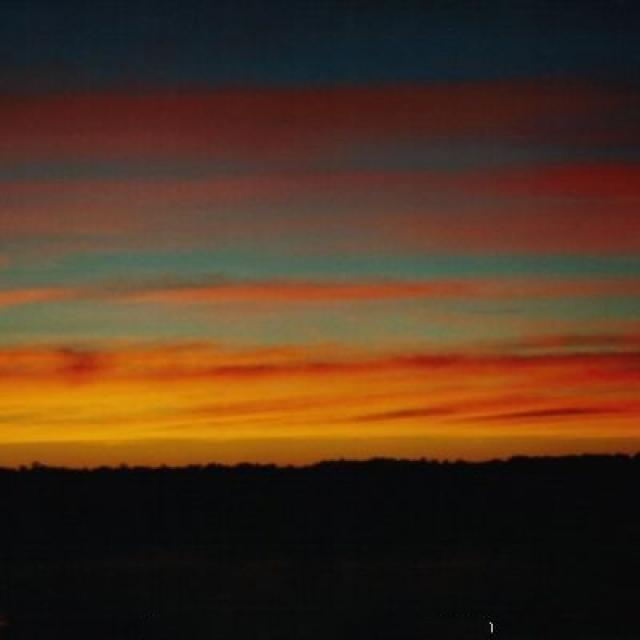Ci: (1, 25, 640, 430)
